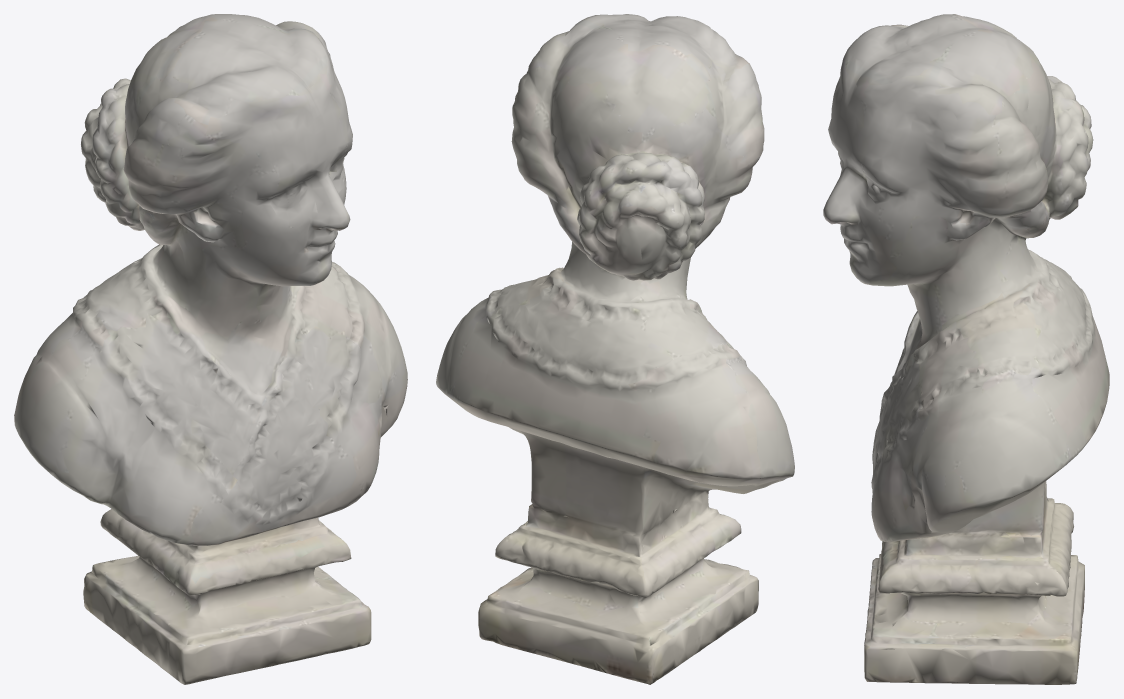
The picture shows the model from 3 angles, left to right: view 1: azimuth 30°, elevation 25°; view 2: azimuth 150°, elevation 25°; view 3: azimuth 270°, elevation 25°; orthographic projection. The views are drawn at different scales.
Visible parts, largest first — view 1: mesh_0; view 2: mesh_0; view 3: mesh_0.
Boxes of the visible parts, <box> form: mesh_0: <box>14,14,407,684</box>; mesh_0: <box>436,14,794,684</box>; mesh_0: <box>823,14,1109,684</box>.
Bounding box in the file's own units: 0.1884 × 0.303 × 0.1298.
Materials: 1 (1 with a texture image).
